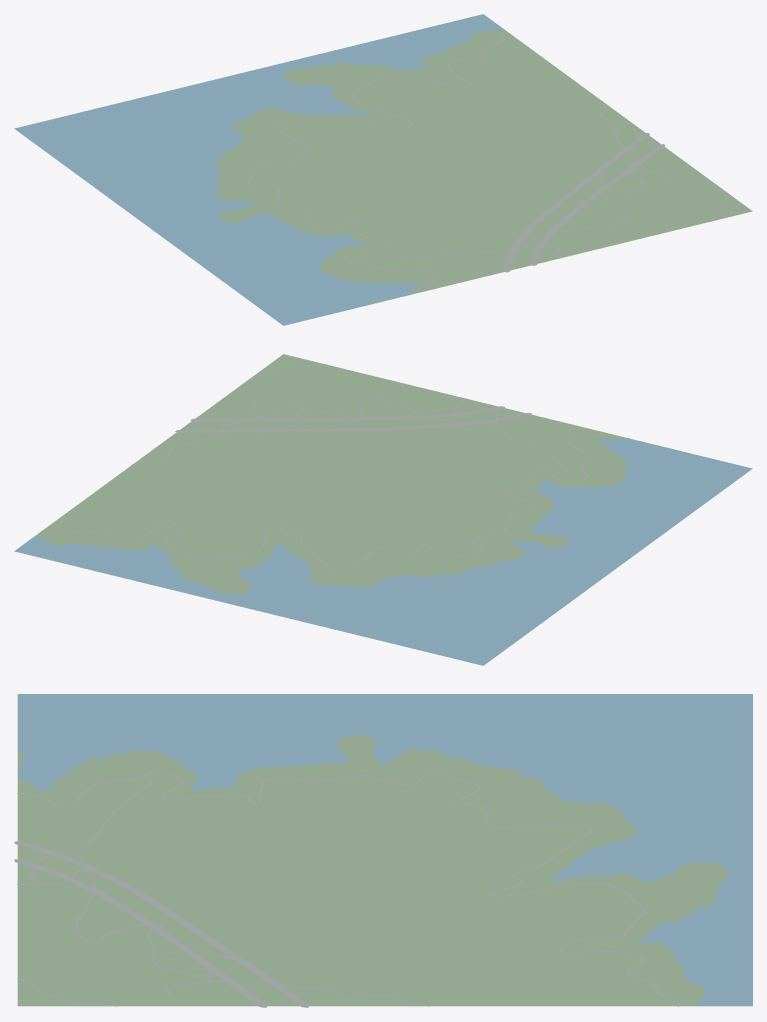
The model's file is 13_4-known-fine.glb.
The picture shows the model from 3 angles, top to bottom: view 1: azimuth 30°, elevation 25°; view 2: azimuth 150°, elevation 25°; view 3: azimuth 270°, elevation 25°; orthographic projection. The views are drawn at different scales.
Bounding box in the file's own units: 1005 × 0.1 × 1000.
